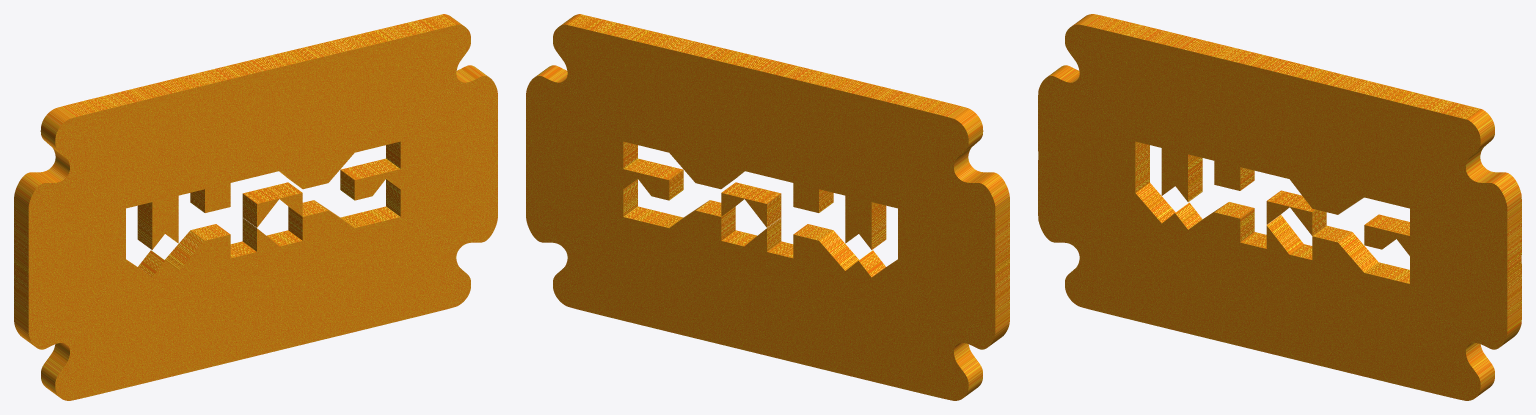
Rendered from orange-glitter.glb.
The picture shows the model from 3 angles, left to right: view 1: azimuth 30°, elevation 25°; view 2: azimuth 150°, elevation 25°; view 3: azimuth 330°, elevation 25°; orthographic projection.
Parts seen in each view (by area): view 1: Razor; view 2: Razor; view 3: Razor.
Part boxes in pixels (box(x1,y1,x2,y2)): Razor: box(14, 14, 497, 400); Razor: box(526, 14, 1009, 400); Razor: box(1038, 14, 1521, 400).
Bounding box in the file's own units: 0.5609 × 0.3234 × 0.03.
1 material, 1 textured.
